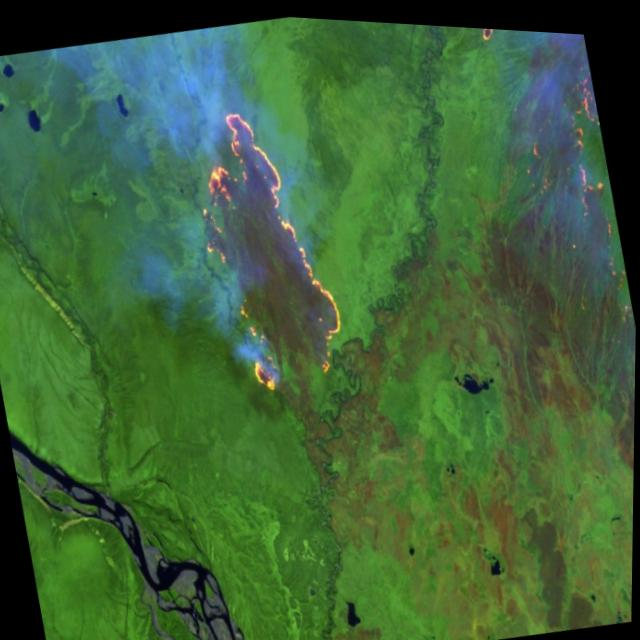fire: (174, 85, 360, 401), (457, 21, 624, 260)
